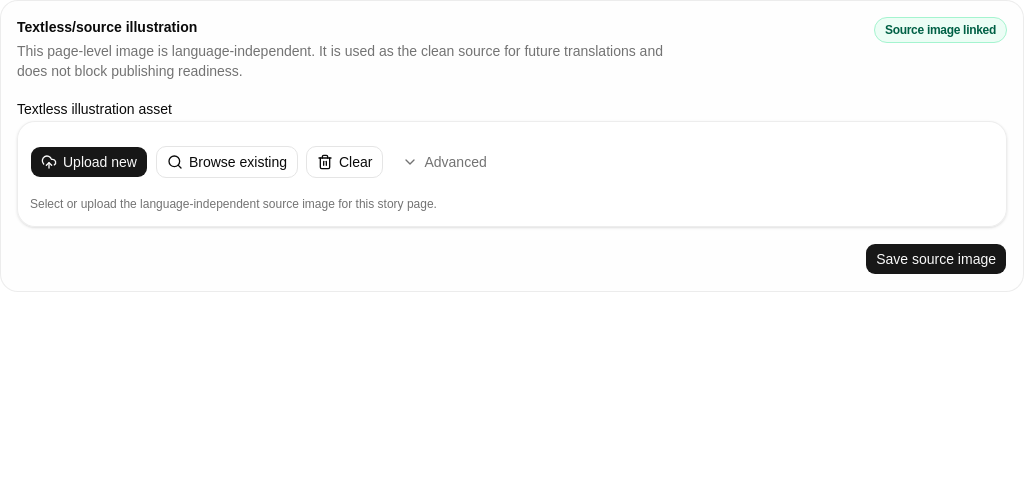
Test: StoryPageTextlessIllustrationForm › rejects non-image asset ids before saving
Click the button "Advanced".
click(445, 162)  # box [392,146,498,178]
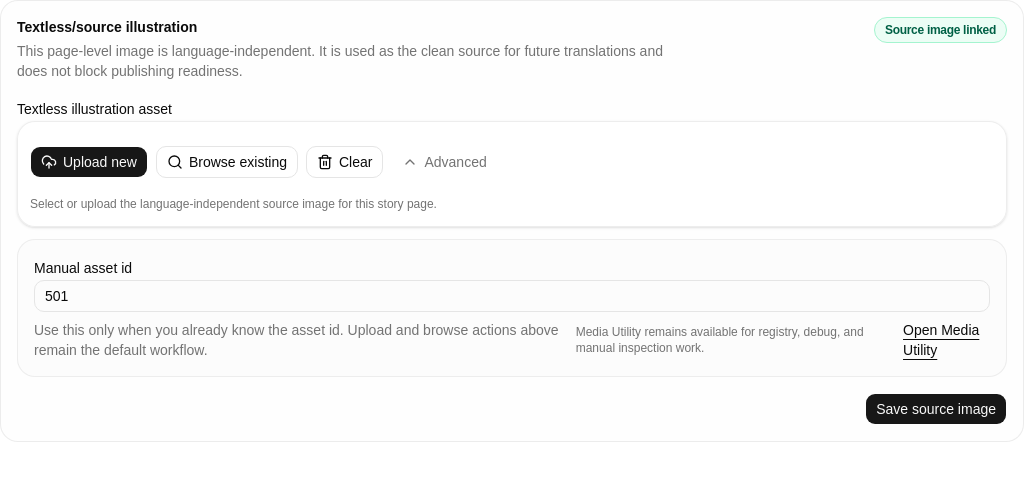
Replace the text in the number field named "manual asset id" with "55" at [512, 296], box [34,280,990,312]
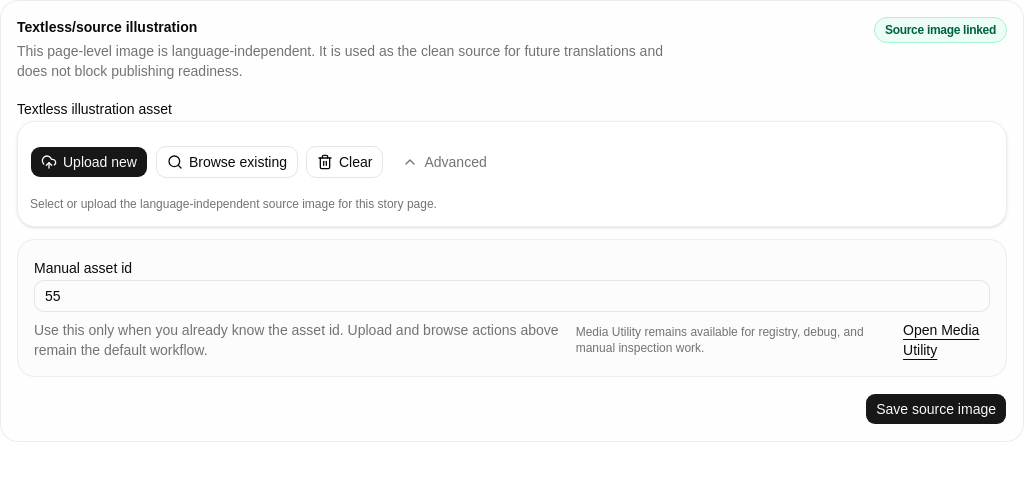
Click the button "Save source image".
click(936, 409)  # box [865,393,1007,425]
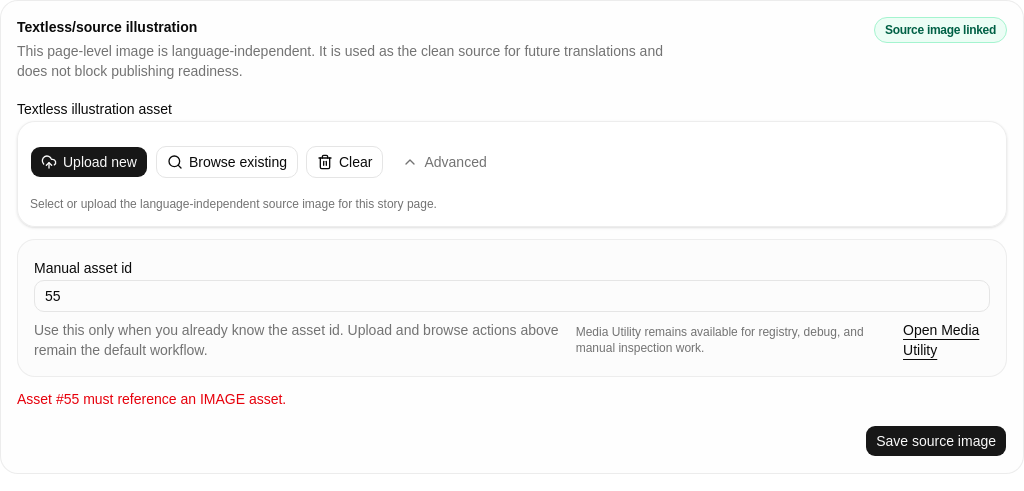
Now the text "Asset #55 must reference an IMAGE asset." is shown, box [17,391,286,407]
